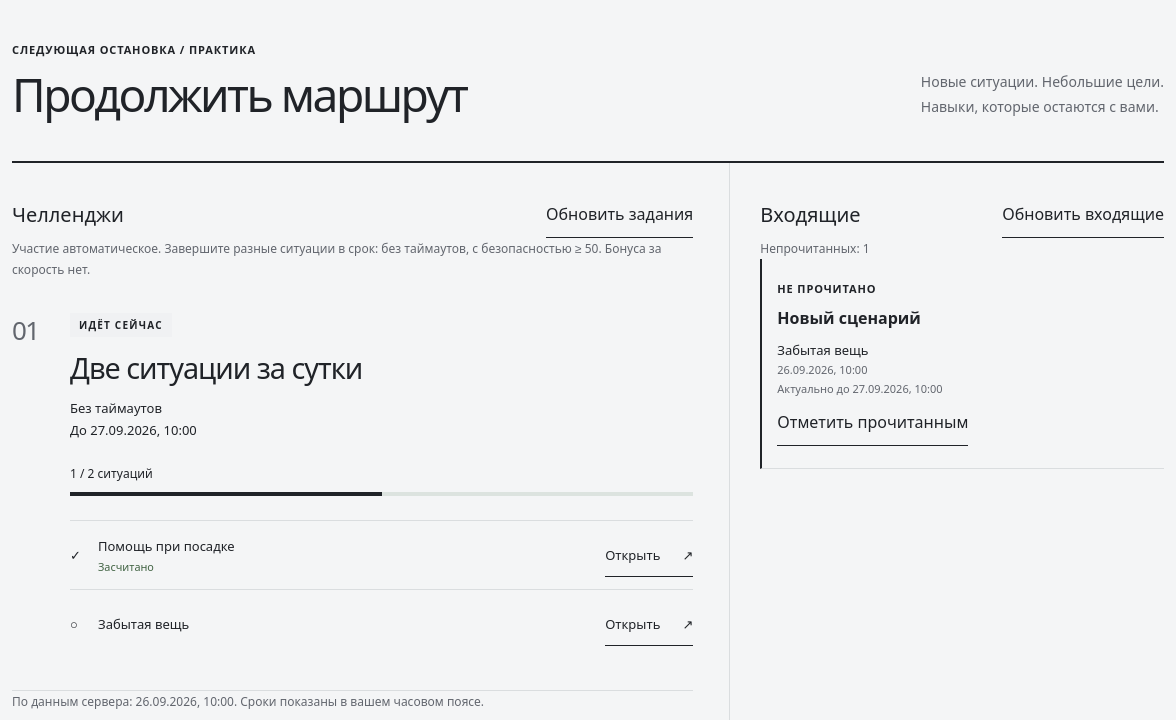
it: shows acknowledged read state even when the following reload fails
The width and height of the screenshot is (1176, 720).
Click the button "Отметить прочитанным" at {"x": 873, "y": 422}, box [777,399,968,446]
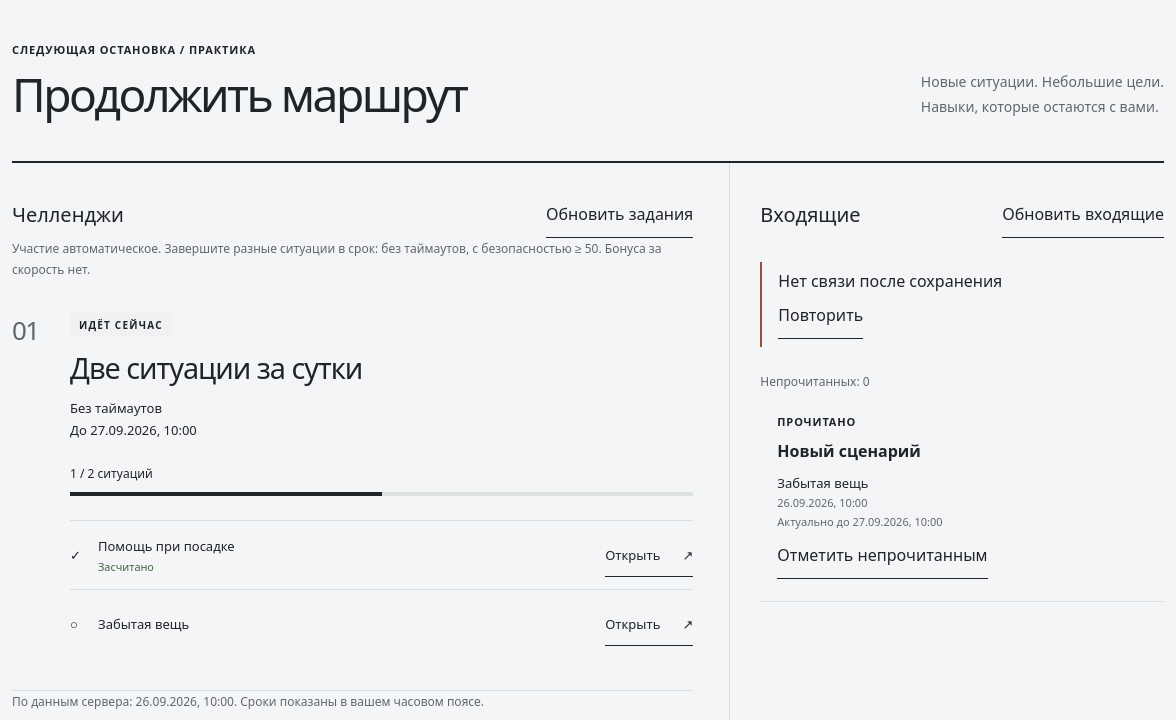
Check: the button "Отметить непрочитанным" is enabled, box [777,532,988,579]
Check: the message shows "Нет связи после сохранения", box [778,270,1002,292]
Check: the text "Непрочитанных: 0" is shown, box [760,373,870,390]
